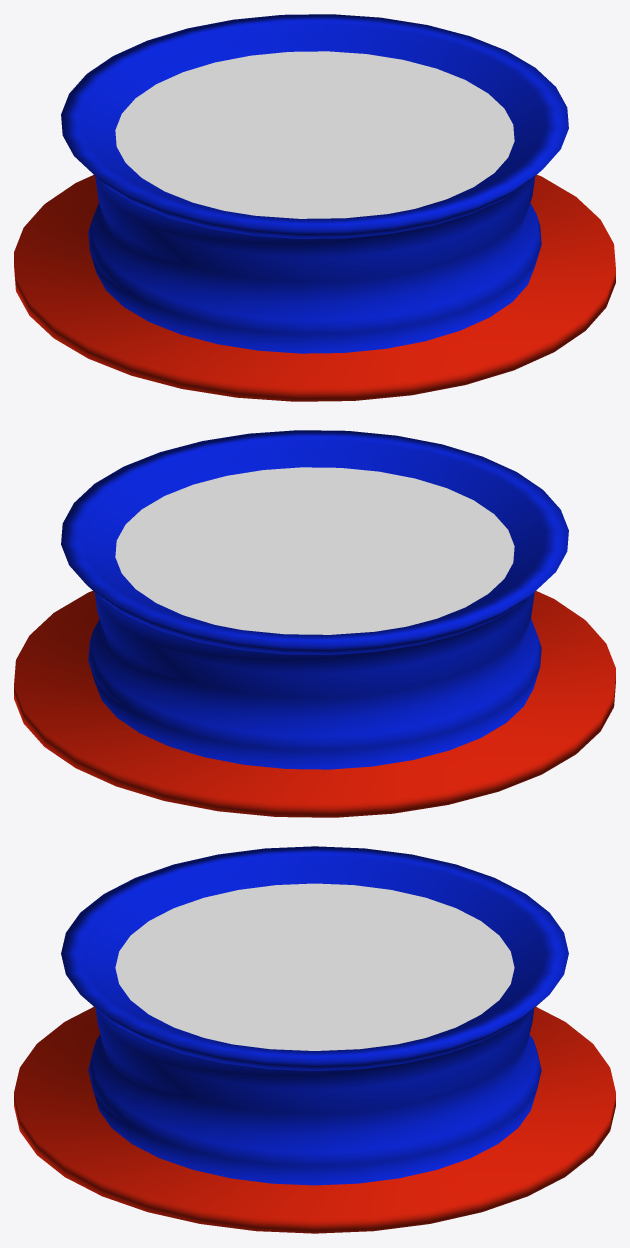
File: Well_1.fbx
3 views of the same model, one above another, from view 1: azimuth 30°, elevation 25°; view 2: azimuth 150°, elevation 25°; view 3: azimuth 270°, elevation 25° (orthographic).
Visible parts, largest first — view 1: Well_1, Well_1_Water; view 2: Well_1, Well_1_Water; view 3: Well_1, Well_1_Water.
Boxes of the visible parts, <box> form: Well_1: <box>14,14,615,401</box>; Well_1_Water: <box>115,51,514,218</box>; Well_1: <box>14,430,615,817</box>; Well_1_Water: <box>115,467,514,634</box>; Well_1: <box>14,846,615,1233</box>; Well_1_Water: <box>115,883,514,1050</box>.
Bounding box in the file's own units: 90.99 × 25.48 × 90.99.
